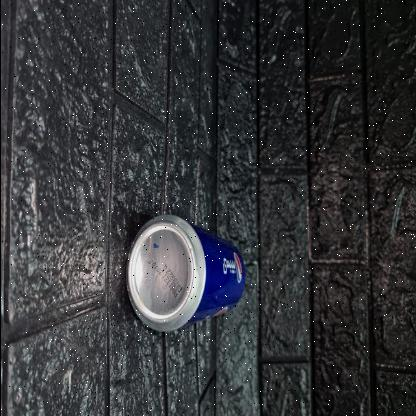Can: (99, 203, 260, 360)
